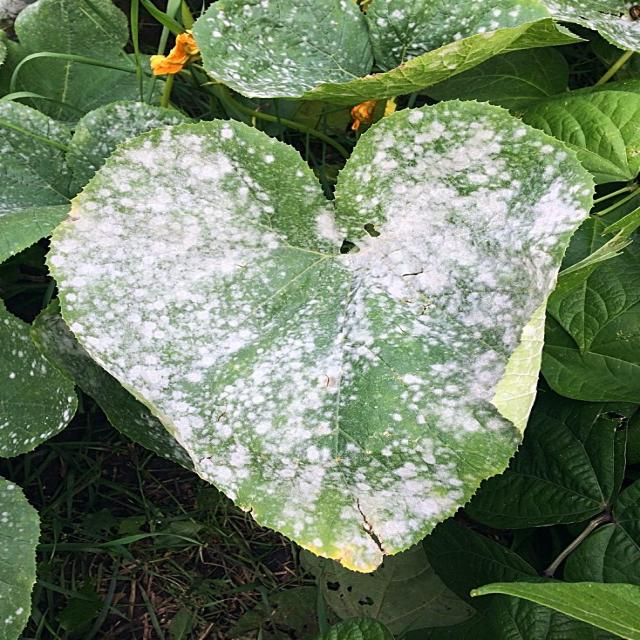Powdery Mildew: (42, 98, 595, 572)
